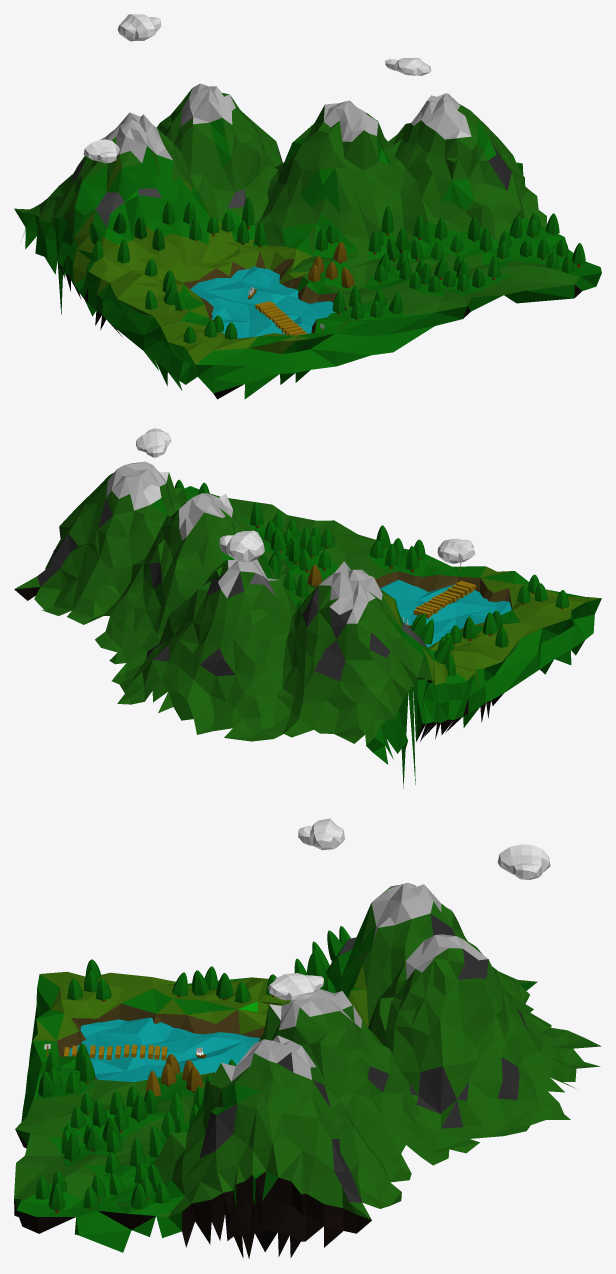
The model's file is landtest.dae.
The picture shows the model from 3 angles, top to bottom: view 1: azimuth 30°, elevation 25°; view 2: azimuth 150°, elevation 25°; view 3: azimuth 270°, elevation 25°; orthographic projection. The views are drawn at different scales.
Visible parts, largest first — view 1: skpB9F6 (×24), skp25AF (×3); view 2: skpB9F6 (×16), skp25AF (×3); view 3: skpB9F6 (×23), skp25AF (×3).
Part boxes in pixels (box(x1,y1,x2,y2)): skpB9F6 (×24): box(14, 86, 599, 399); skp25AF (×3): box(83, 14, 431, 163); skpB9F6 (×16): box(14, 461, 601, 788); skp25AF (×3): box(136, 428, 475, 563); skpB9F6 (×23): box(14, 883, 601, 1258); skp25AF (×3): box(268, 818, 550, 1000).
Size of the model in its own units: 4275 by 4199 by 2353.
